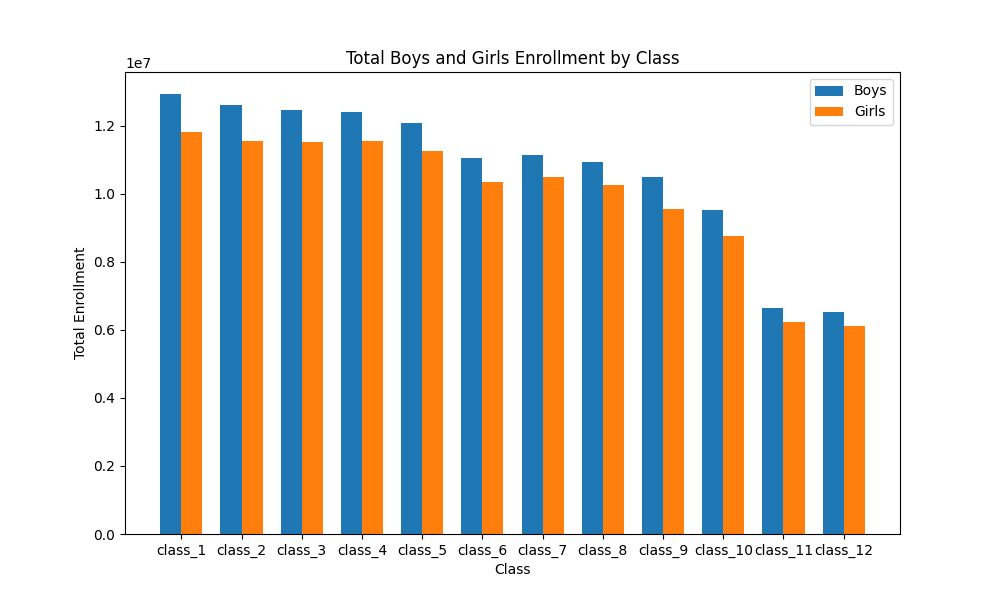

The dashboard page shown, as its layout file describes it:
{"tool":"tableau","page":{"name":"Dashboard 1","canvas":[1000,1000],"units":"permille","ordinal":0},"visuals":[{"type":"worksheet","title":"Sheet 2","mark":"Bar","rows":["count"],"cols":["date","date"],"box":[1.8,480.7,991,499.4]}]}

Visuals, with their boxes on the dashboard's canvas, which has no fixed pixel size, in thousandths of its width and height (x1, y1, x2, y2). These are canvas units, not pixel positions in the 1000x600 screenshot, which may show the page scaled, cropped or inside an application window:
"Sheet 2" worksheet (Bar marks): select_region(2, 481, 993, 980)
